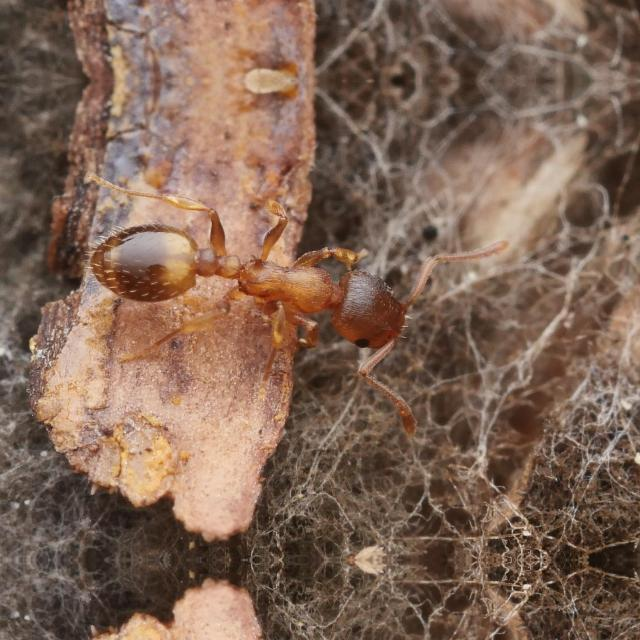Temnothorax: (40, 175, 464, 382)
